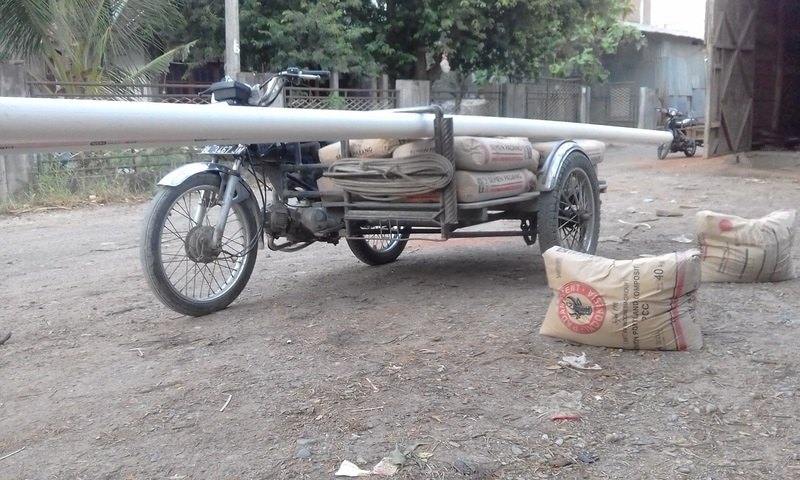becak barang: (134, 63, 624, 320), (655, 104, 724, 161)
